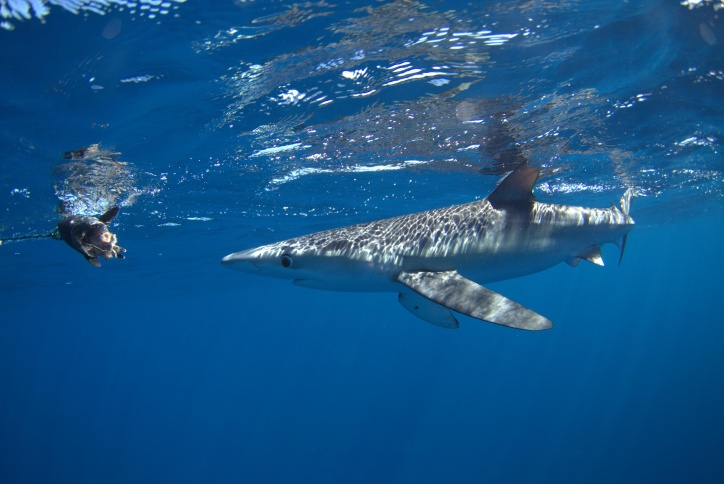Azul: (195, 135, 666, 367)
